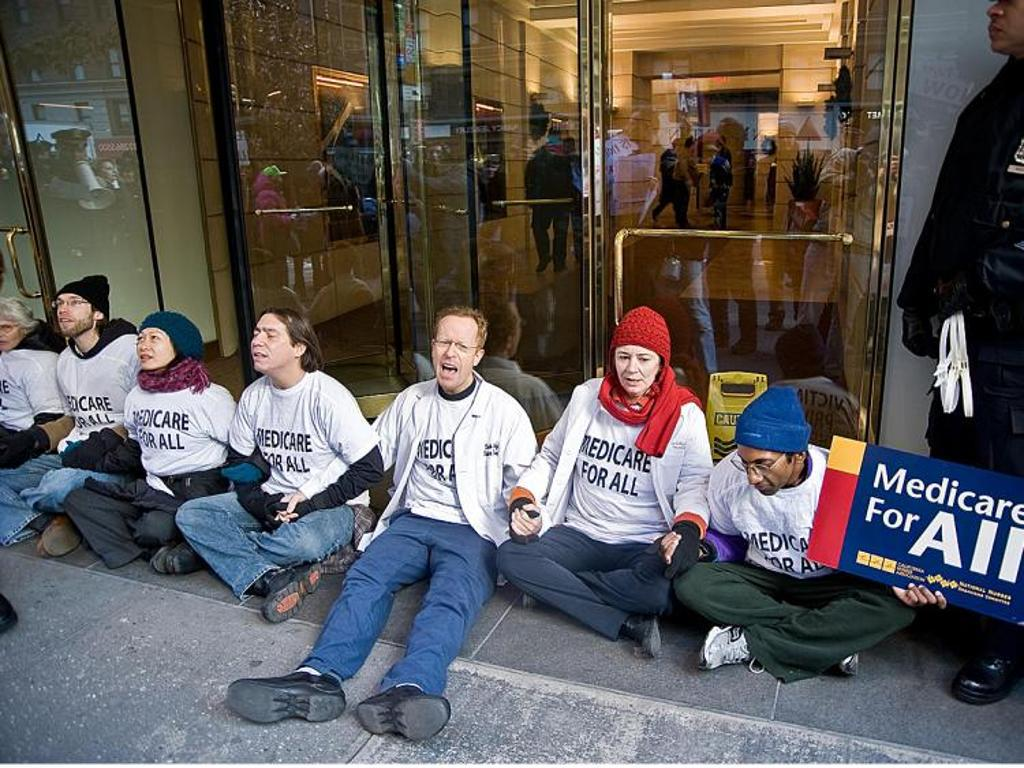face: (737, 442, 796, 496), (434, 320, 473, 389), (250, 316, 293, 372), (614, 345, 661, 392), (987, 1, 1024, 54), (55, 296, 92, 335), (136, 330, 170, 371), (61, 144, 87, 169), (625, 113, 646, 141), (1, 322, 21, 349), (100, 163, 114, 181), (34, 151, 48, 166), (272, 173, 282, 184), (564, 143, 573, 153), (675, 141, 682, 151), (689, 141, 696, 150), (715, 142, 721, 152)
